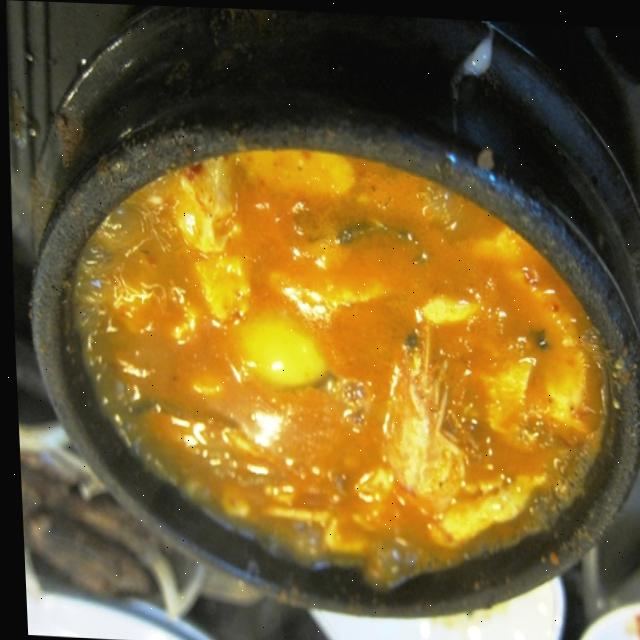汤锅炖物: (50, 92, 606, 636)
